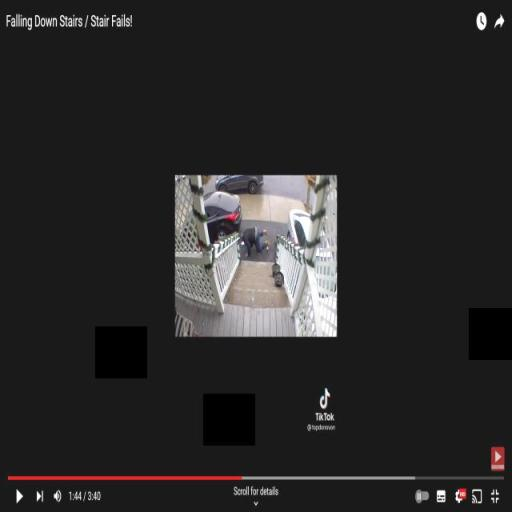Fall: (240, 225, 270, 261)
